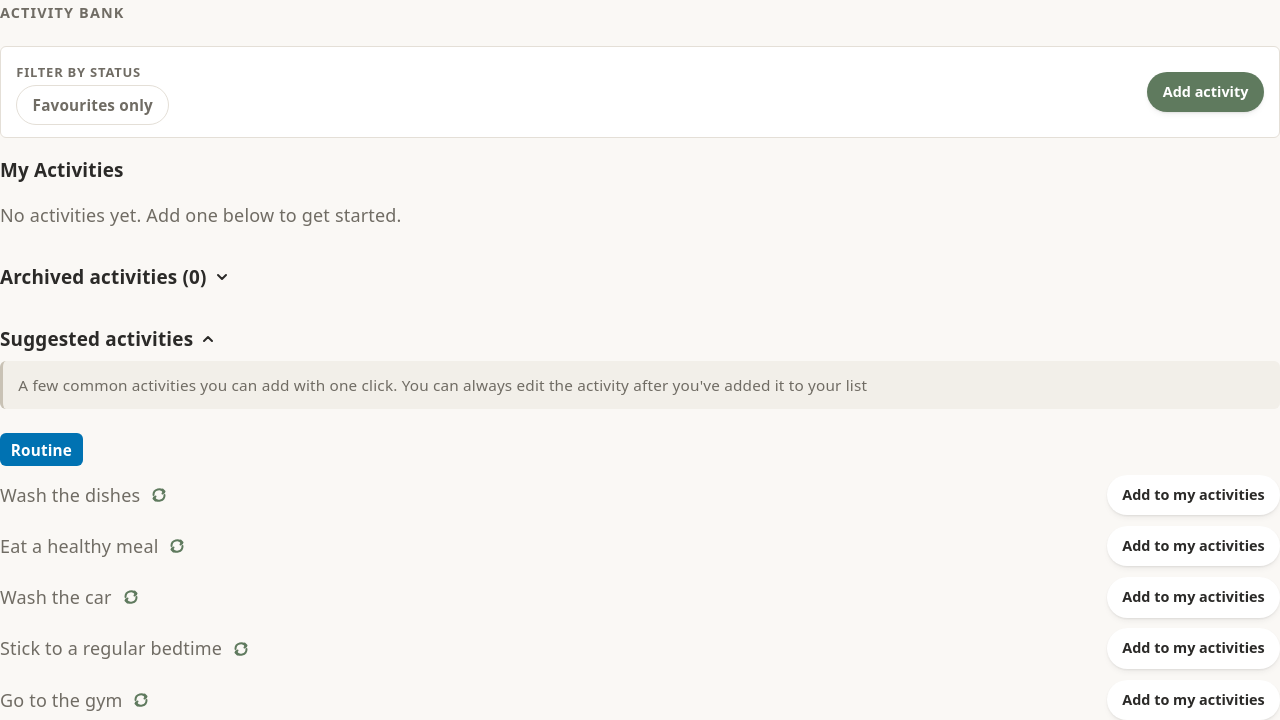
Test case: ActivityBank › FRONTEND-002-AC-15: successful create adds to the list and clears the form › shows the new activity and resets the form fields
Click the button "Add activity".
click(1206, 92)  # box 1148,72 -> 1264,112
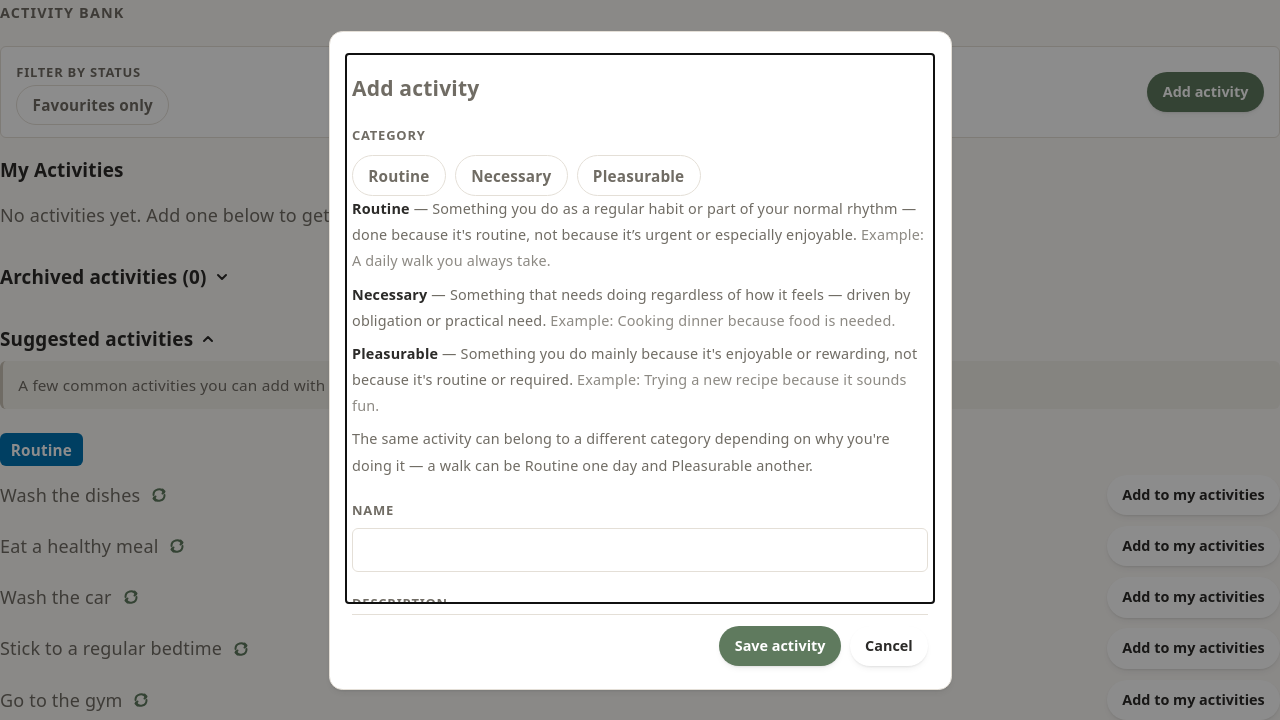
Type "Walk" into the field labelled "Name".
click(640, 550); type("Walk")  # box 352,528 -> 928,572
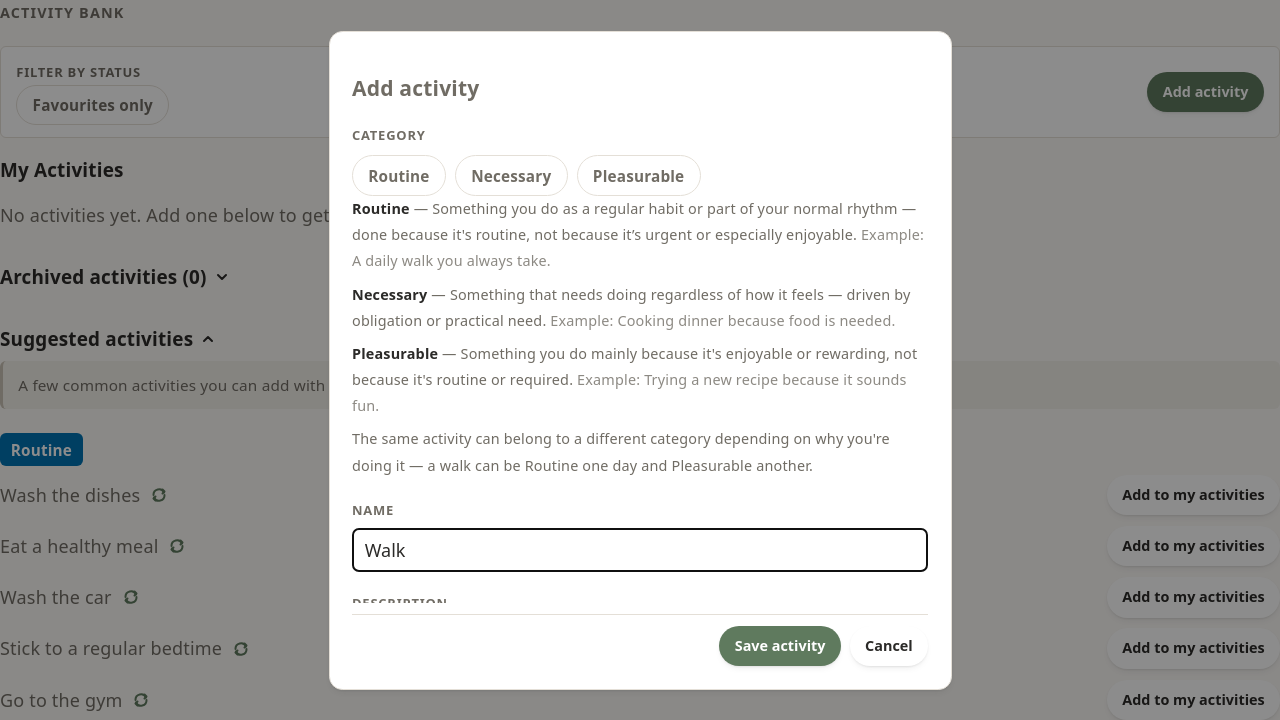
Click the radio button labelled "Routine".
click(399, 176)  # box 352,156 -> 446,196
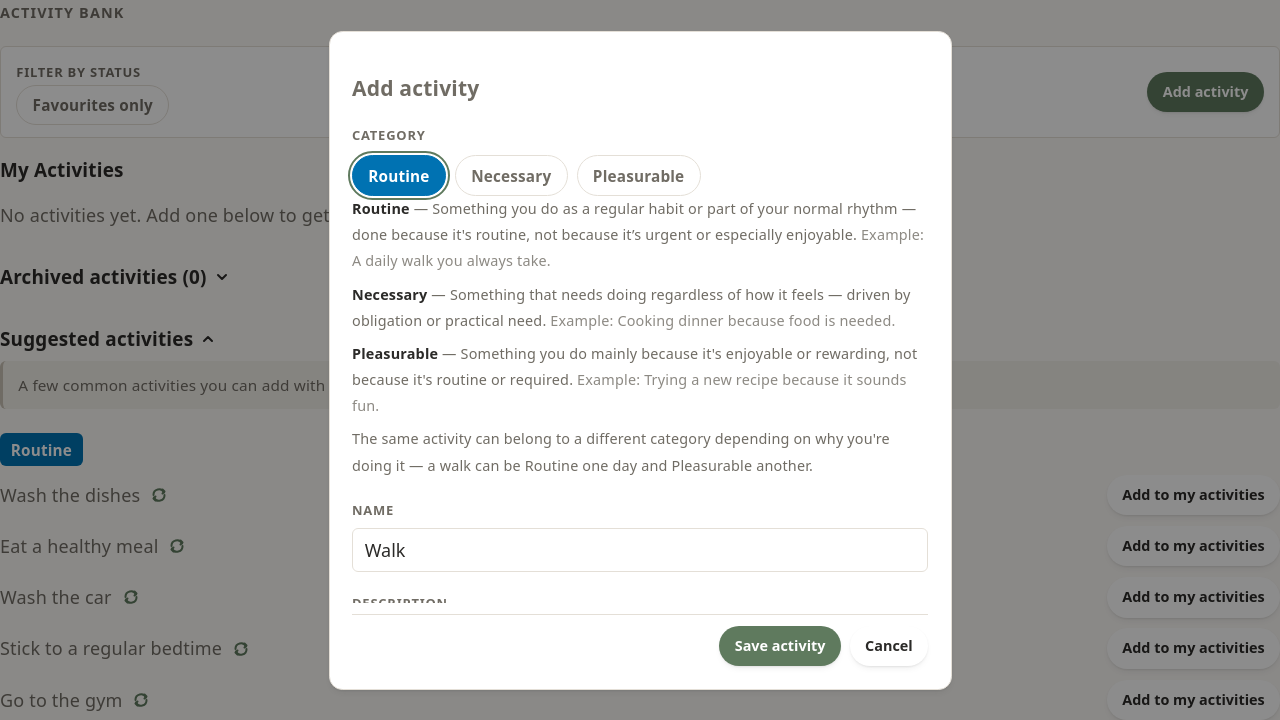
Click the button "Save activity".
click(780, 646)  # box 719,626 -> 841,666
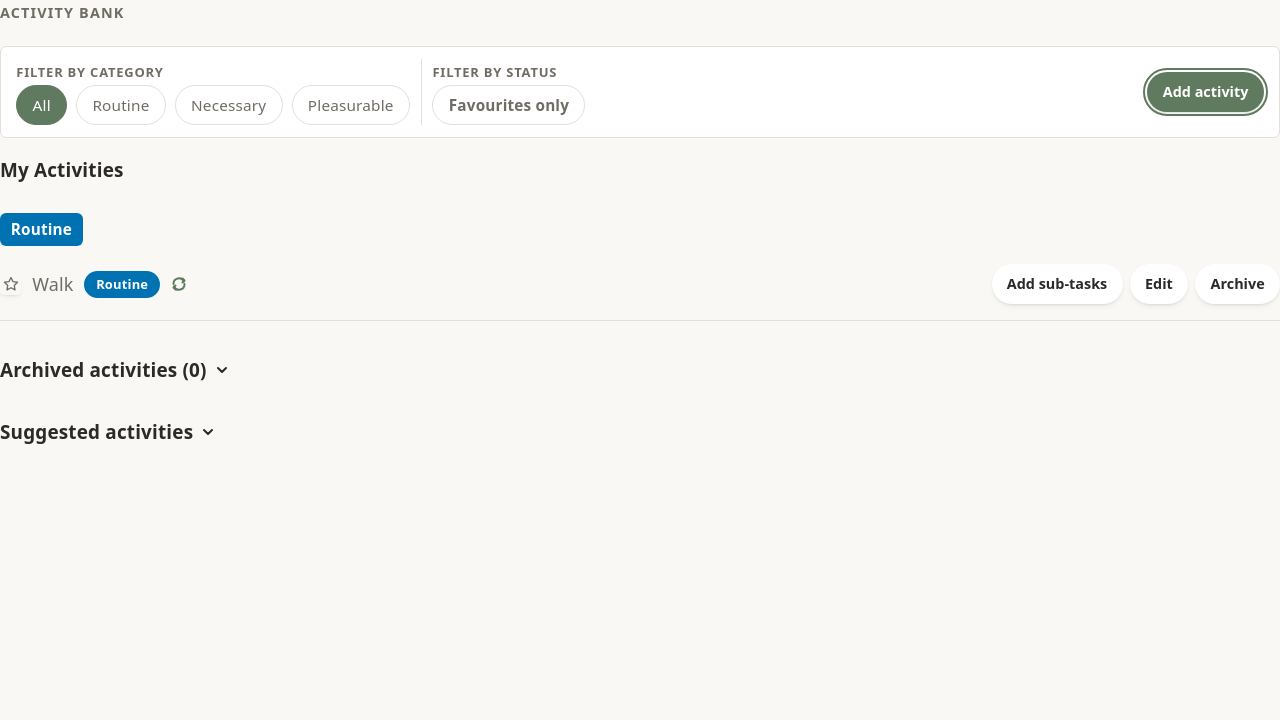
Expected: the text "Walk" is shown, 32,271 -> 74,297
Expected: the dialog is gone
